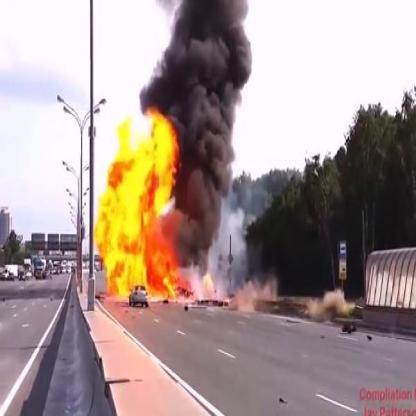fire: (94, 109, 193, 305)
